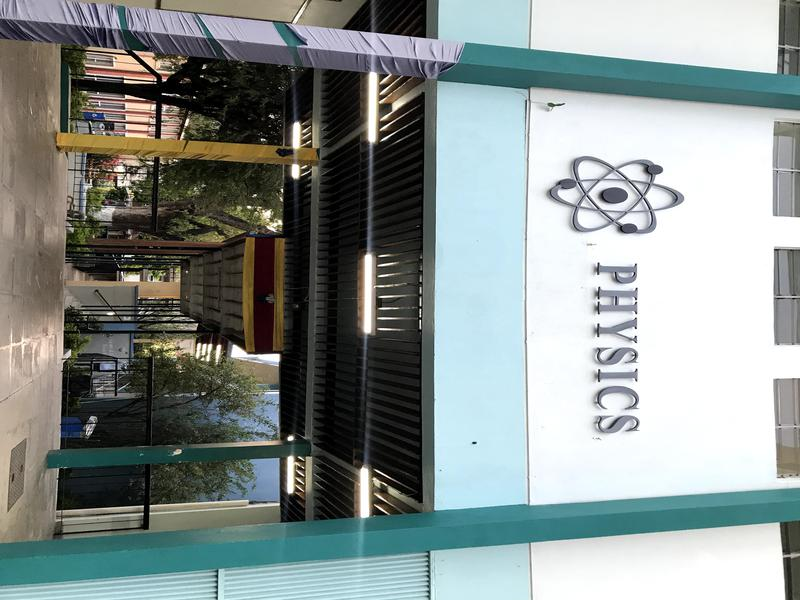18.0053657_-76.7491452_physicssign: (532, 133, 697, 449)
